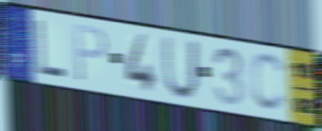3: (212, 46, 244, 107)
4: (124, 32, 159, 96)
C: (250, 51, 289, 115)
L: (34, 18, 68, 81)
P: (73, 22, 110, 85)
U: (161, 35, 200, 101)
